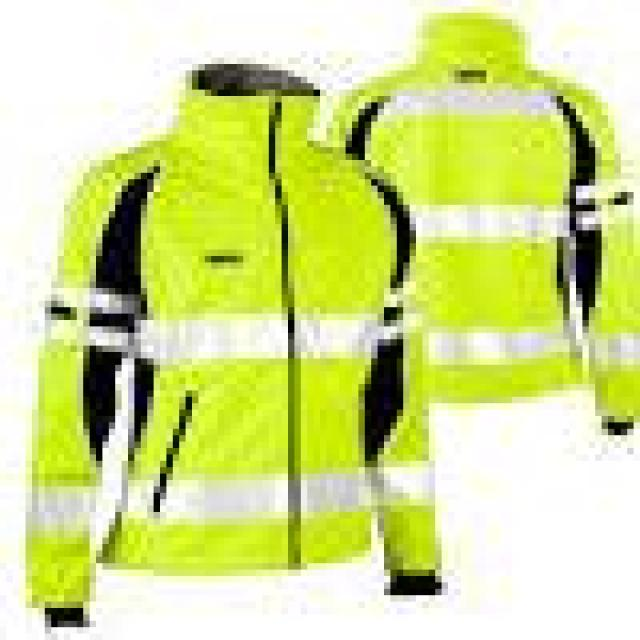Reflective-Jacket: (1, 54, 450, 627), (320, 1, 640, 439)
